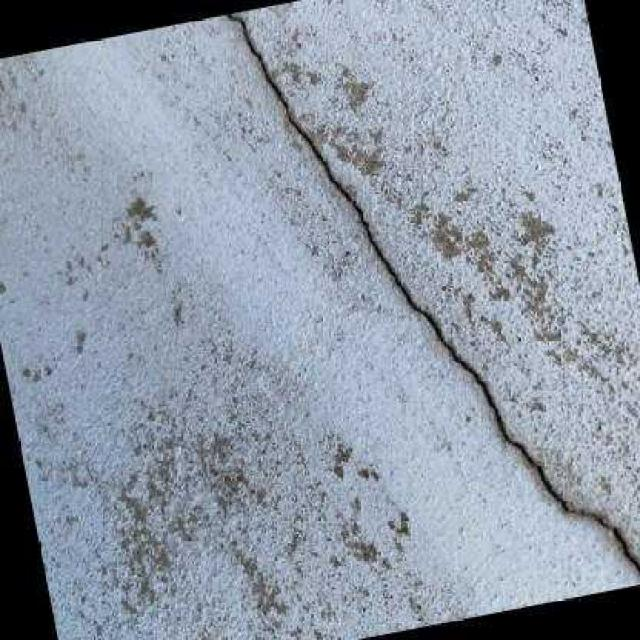D00: (224, 12, 640, 573)
